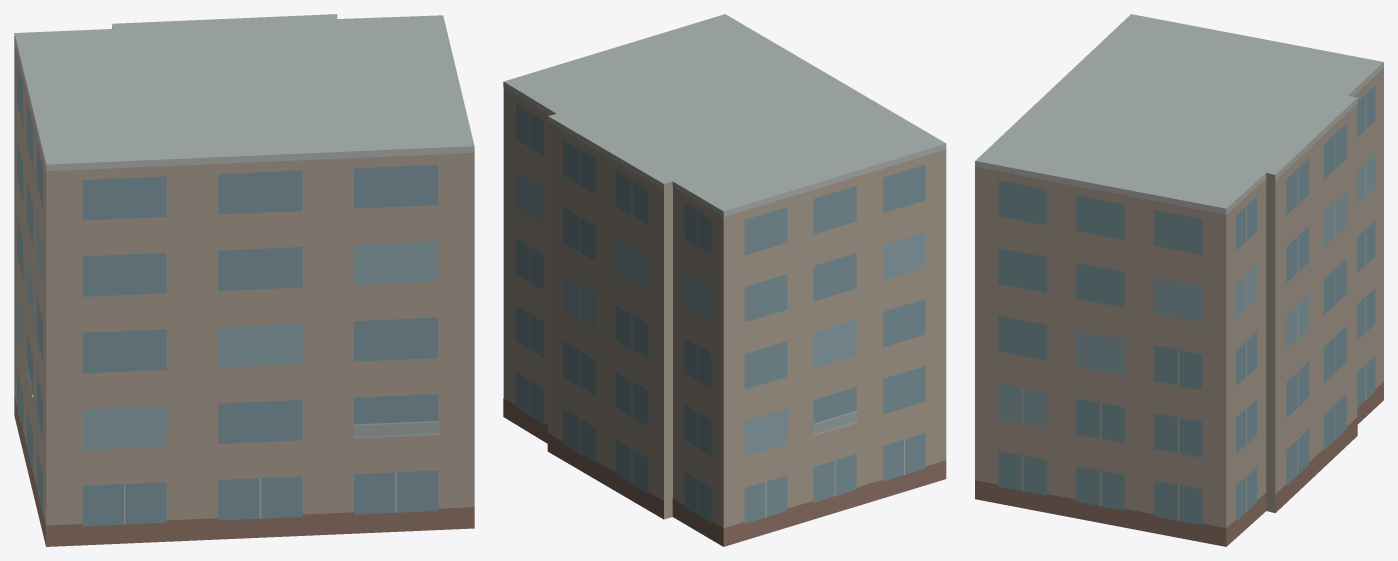
File: survey-upis-32943457.glb
3 renders of one model, left to right at view 1: azimuth 30°, elevation 25°; view 2: azimuth 150°, elevation 25°; view 3: azimuth 270°, elevation 25°, orthographic. The views are drawn at different scales.
Parts seen in each view (by area): view 1: survey-upis-32943457.tmp; view 2: survey-upis-32943457.tmp; view 3: survey-upis-32943457.tmp.
Part boxes in pixels (box(x1,y1,x2,y2)): survey-upis-32943457.tmp: box(14, 14, 474, 546); survey-upis-32943457.tmp: box(503, 14, 946, 546); survey-upis-32943457.tmp: box(975, 14, 1383, 546).
Size of the model in its own units: 17.16 by 13.9 by 15.23.
